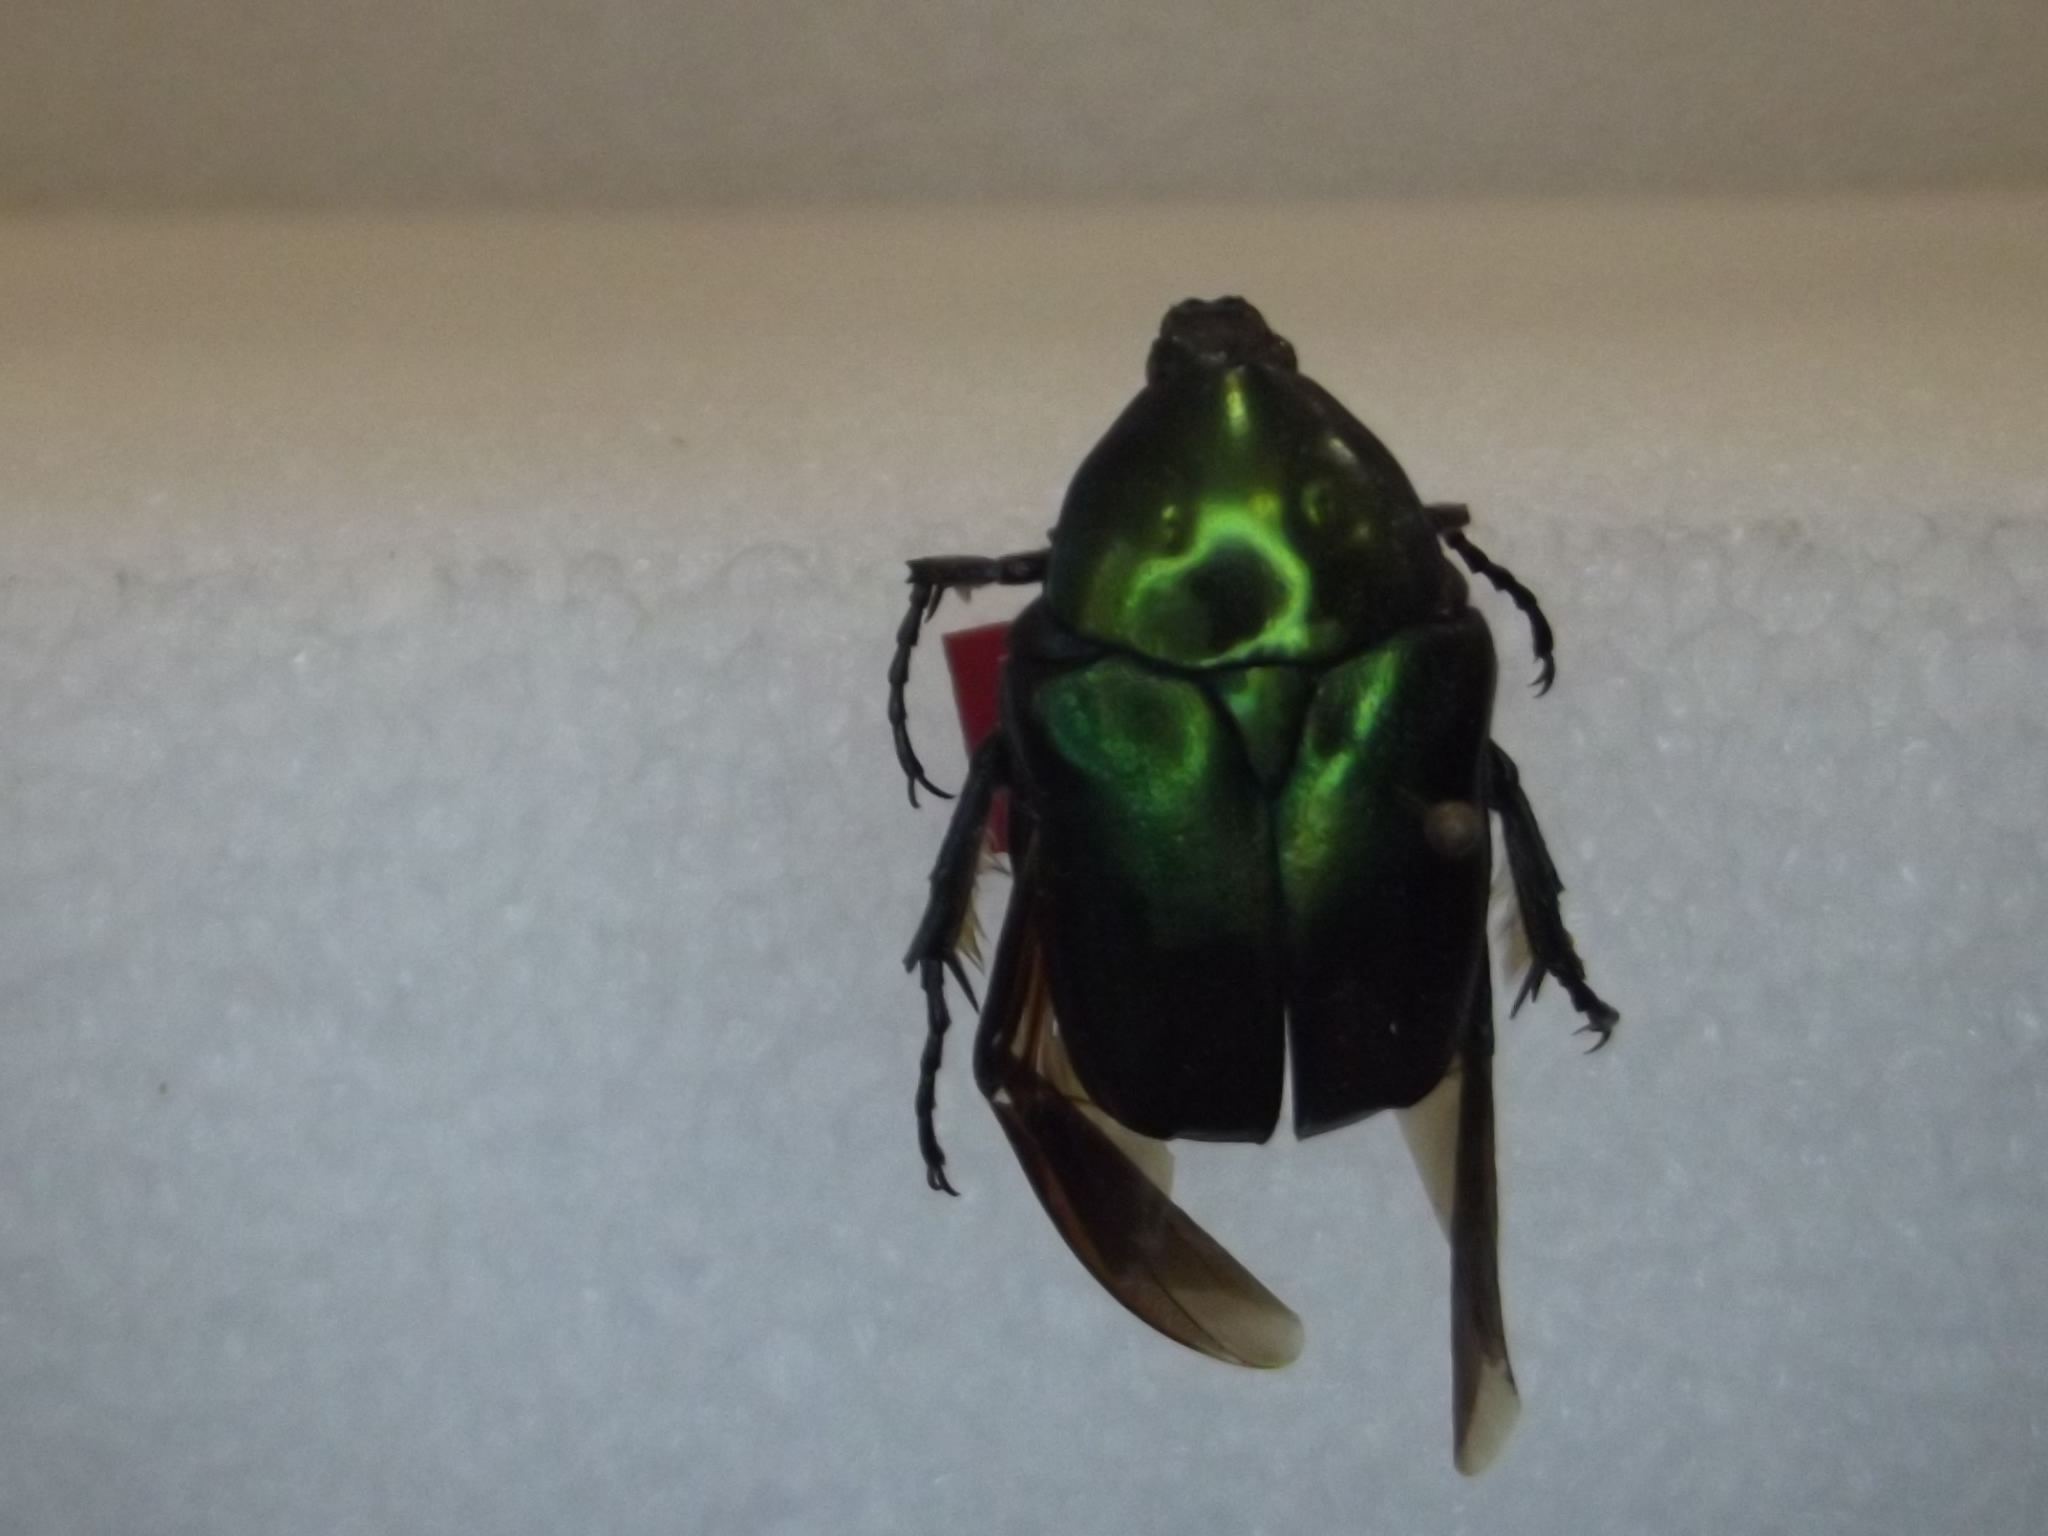Protaetia_besucheti: (847, 257, 1664, 1496)
